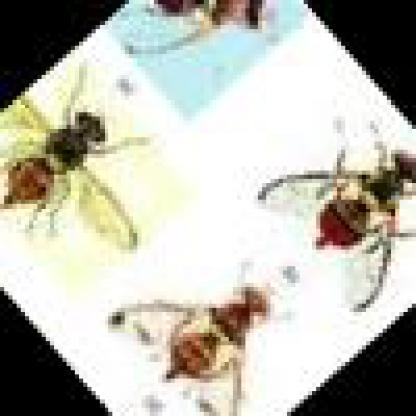fruit fly: (253, 151, 412, 312), (113, 268, 272, 412)
